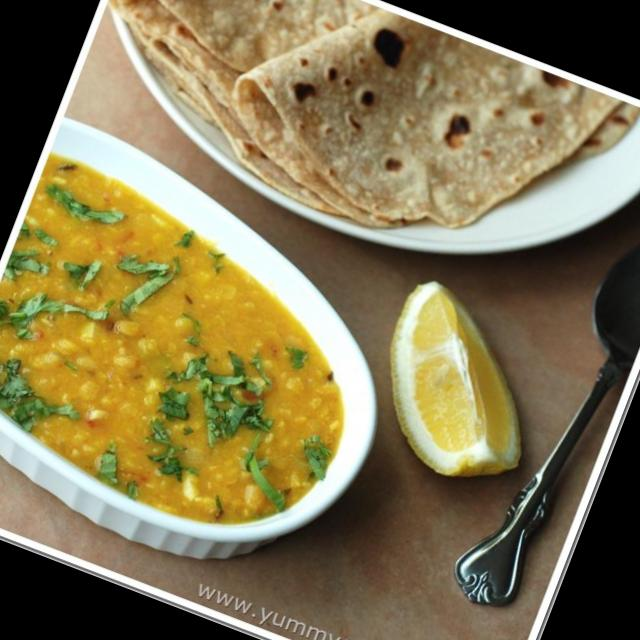dal: (0, 143, 405, 562)
roti: (66, 0, 640, 308)
